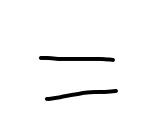eqv: (33, 50, 120, 104)
